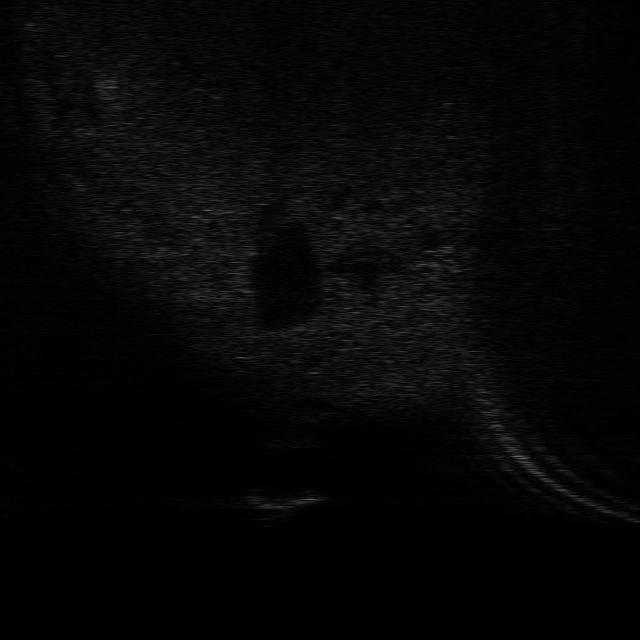cube: (236, 486, 329, 529)
